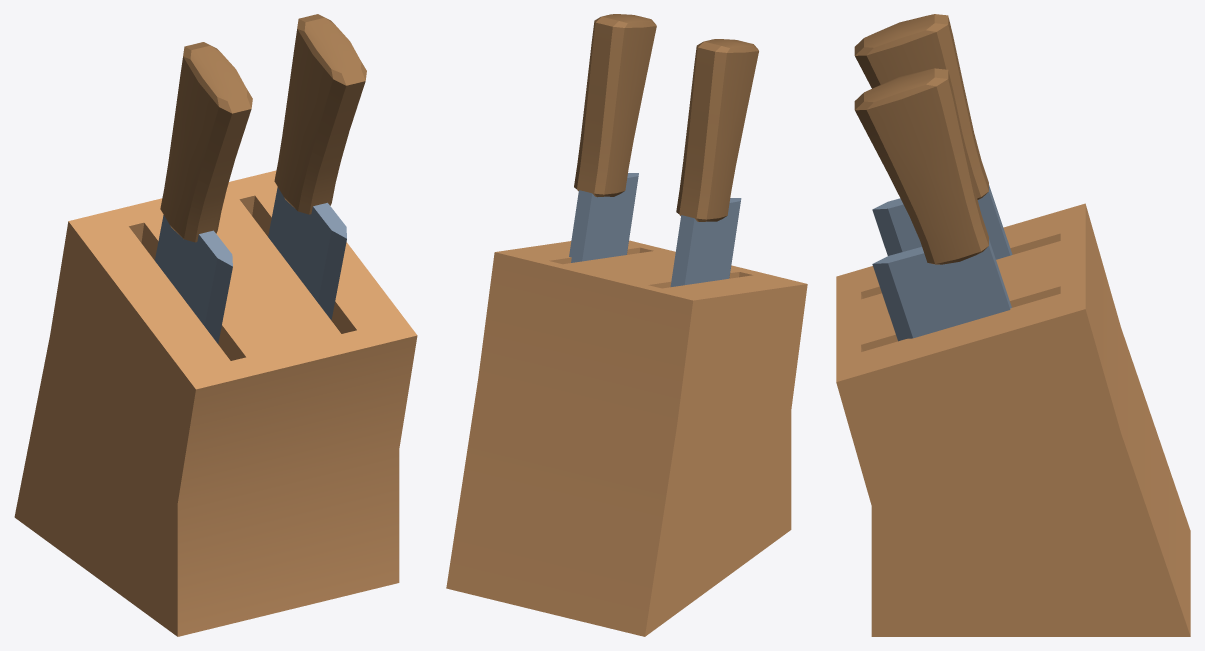
File: Environment_KitchenKnives.fbx
3 views of the same model, side by side, from view 1: azimuth 30°, elevation 25°; view 2: azimuth 150°, elevation 25°; view 3: azimuth 270°, elevation 25° (orthographic). The views are drawn at different scales.
Visible parts, largest first — view 1: Environment_KitchenKnives; view 2: Environment_KitchenKnives; view 3: Environment_KitchenKnives.
Boxes of the visible parts, bbox=[...] form: Environment_KitchenKnives: bbox=[14, 14, 417, 636]; Environment_KitchenKnives: bbox=[446, 14, 807, 636]; Environment_KitchenKnives: bbox=[836, 14, 1190, 636].
Size of the model in its own units: 59.37 by 141 by 84.27.
